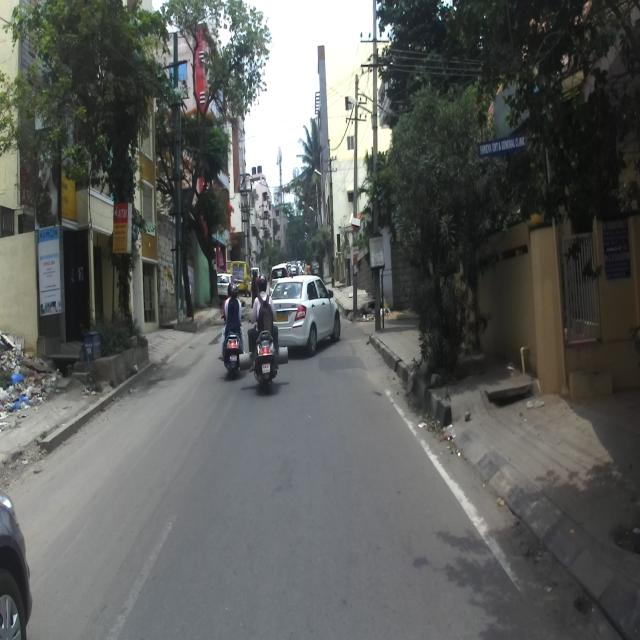car ahead at: (274, 275, 342, 352)
motorcycle ahead at: (218, 319, 250, 386), (254, 322, 281, 390)
